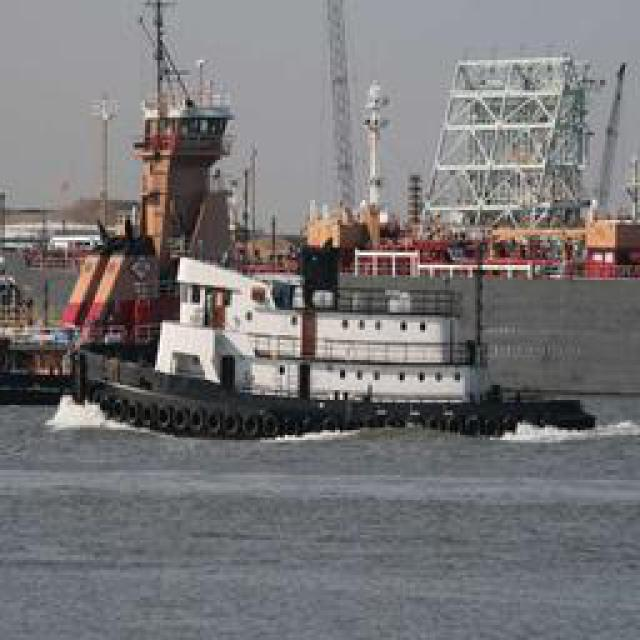Ship: (55, 251, 635, 457)
